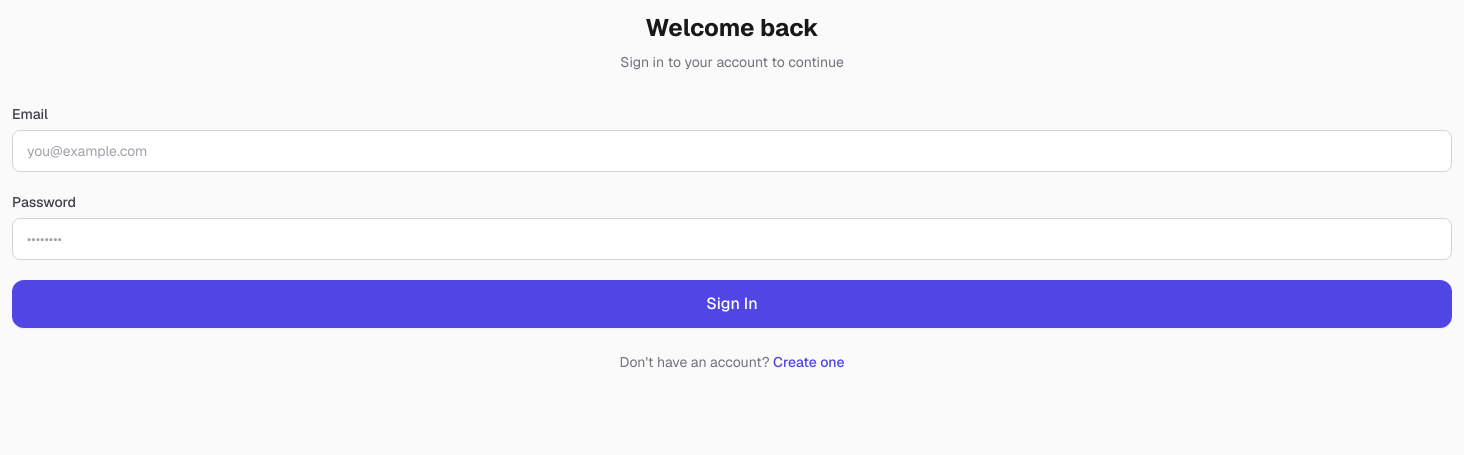
LoginForm › should show server error on failure
Type "test@example.com" into the field labelled "Email" at [732, 151], box [12, 130, 1452, 172]
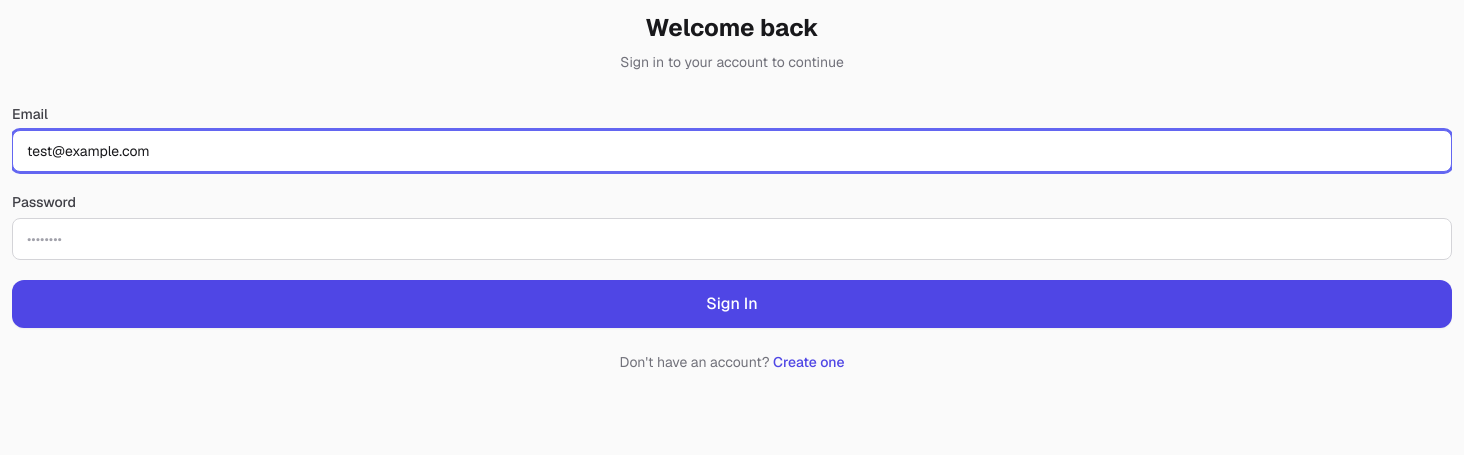
Type "Password1" into the password field labelled "Password" at [732, 239], box [12, 218, 1452, 260]
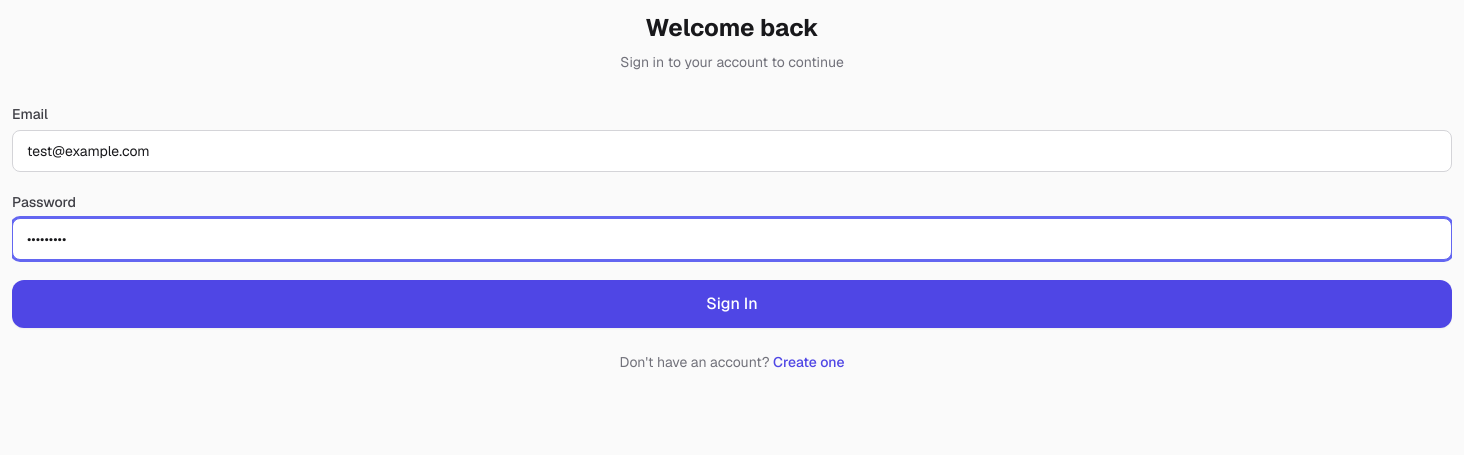
Click the button "Sign In" at [732, 304], box [12, 280, 1452, 328]
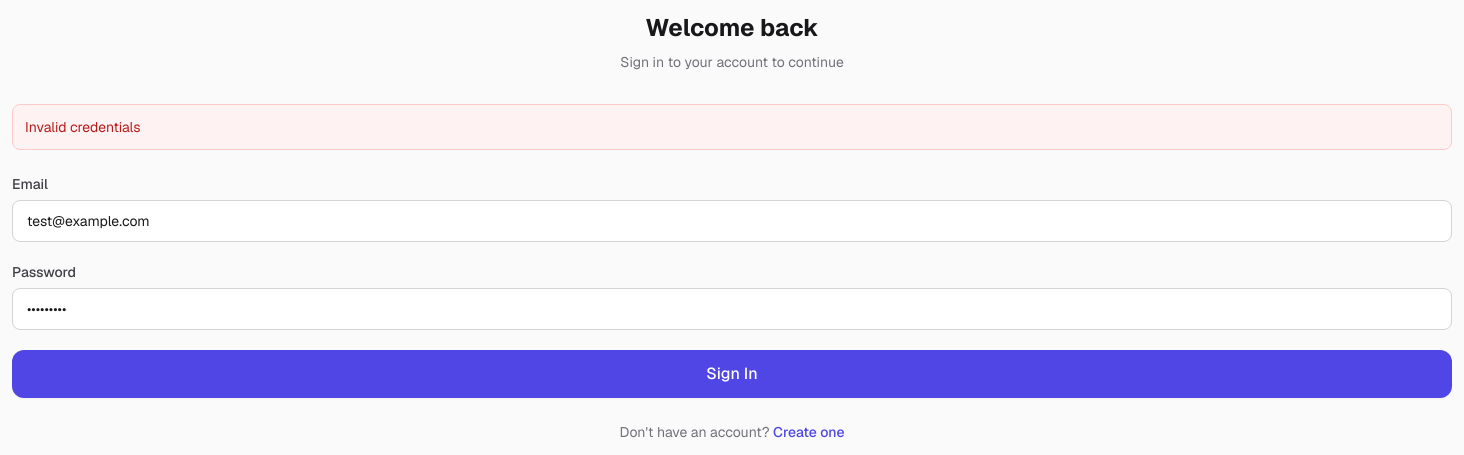
Expected: the text "Invalid credentials" is shown, [12, 104, 1452, 150]
